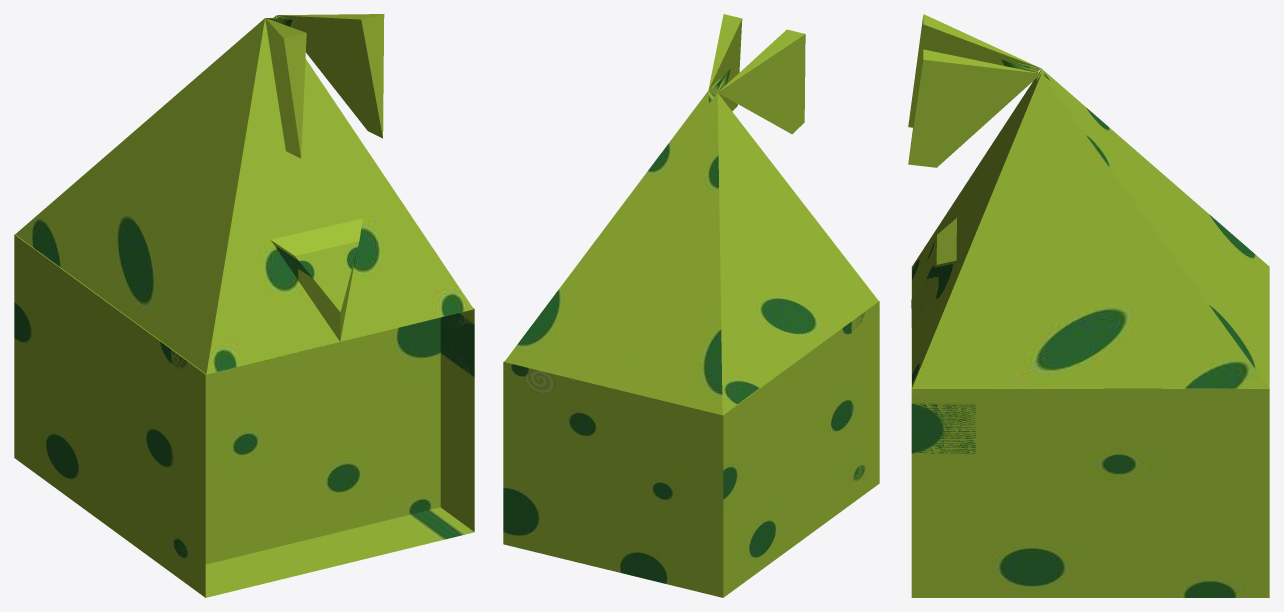
Rendered from frog.fbx.
3 renders of one model, left to right at view 1: azimuth 30°, elevation 25°; view 2: azimuth 150°, elevation 25°; view 3: azimuth 270°, elevation 25°, orthographic. The views are drawn at different scales.
Parts seen in each view (by area): view 1: frog; view 2: frog; view 3: frog.
Boxes of the visible parts, <box> form: frog: <box>14,14,474,597</box>; frog: <box>503,14,879,597</box>; frog: <box>908,14,1269,597</box>.
Bounding box in the file's own units: 2.1 × 3.99 × 2.62.
Materials: 1 (1 with a texture image).
